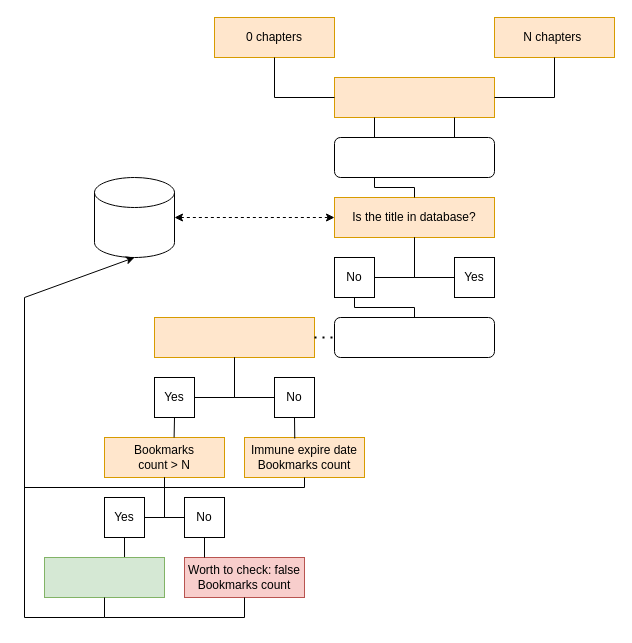
This 632x643 diagram has some shape labels left out. The box of each missing label's shape, as (x1, y1, x2, y2) in pixels:
Database: (94, 176, 174, 258)
Is immune date Null?: (154, 316, 314, 358)
Issue year: (334, 76, 494, 118)
Request the list of titles: (334, 136, 494, 178)
Request the title: (334, 316, 494, 358)
Worth to check: true Bookmarks count: (44, 556, 164, 598)
